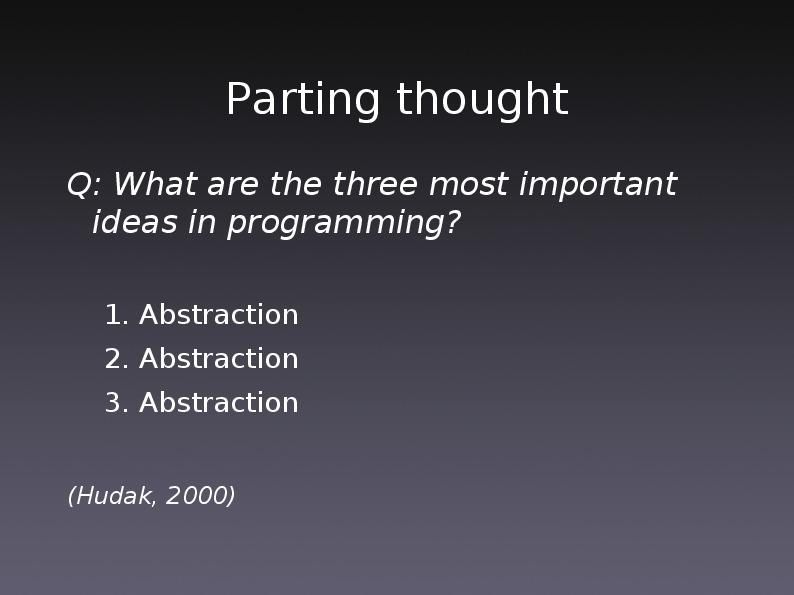paragraph: (56, 163, 684, 524)
title: (220, 70, 580, 125)
